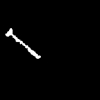half_double_crochet: (6, 29, 40, 58)
